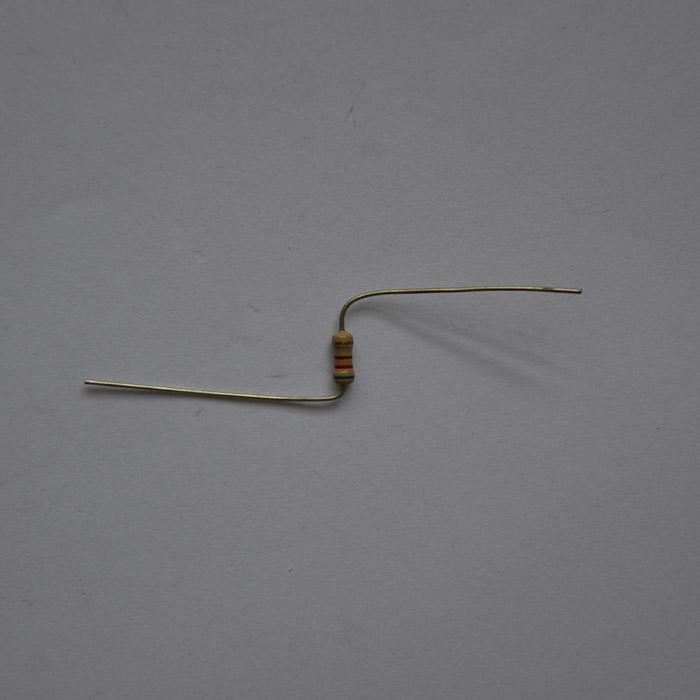resistor: (331, 329, 355, 383)
